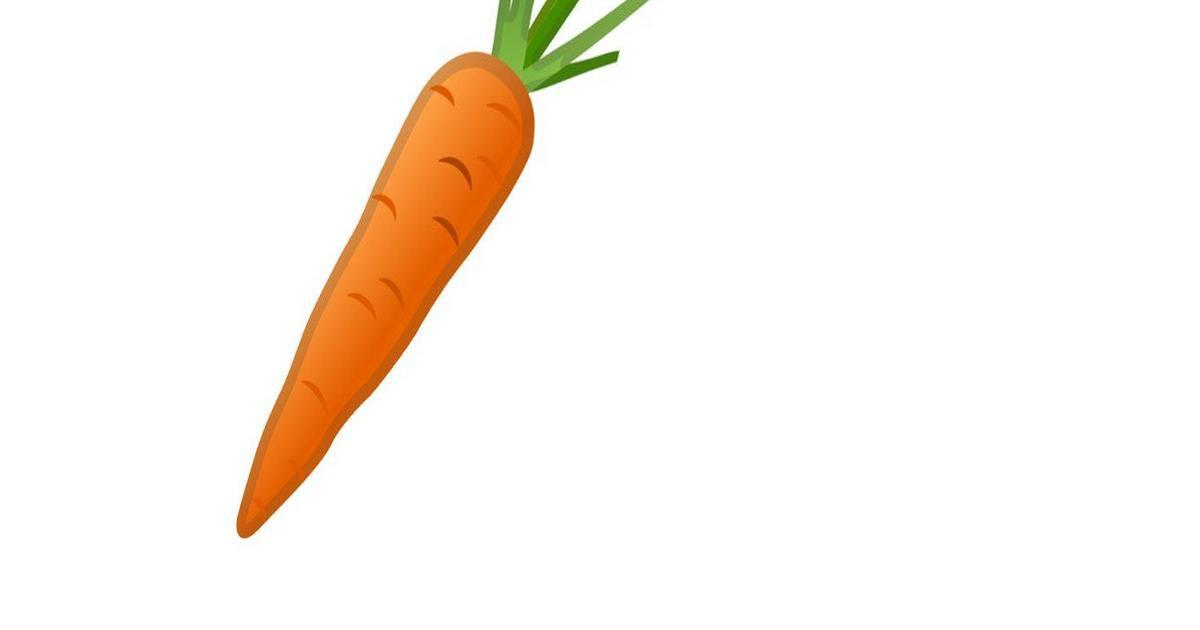carrot: (226, 60, 568, 552)
